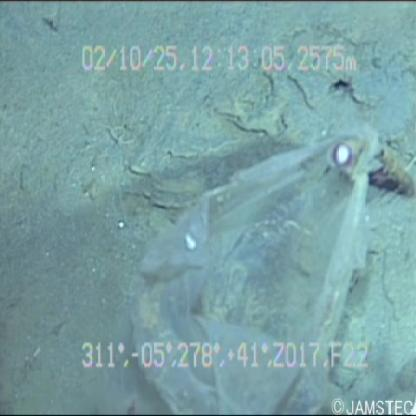Rác: (129, 96, 382, 416)
